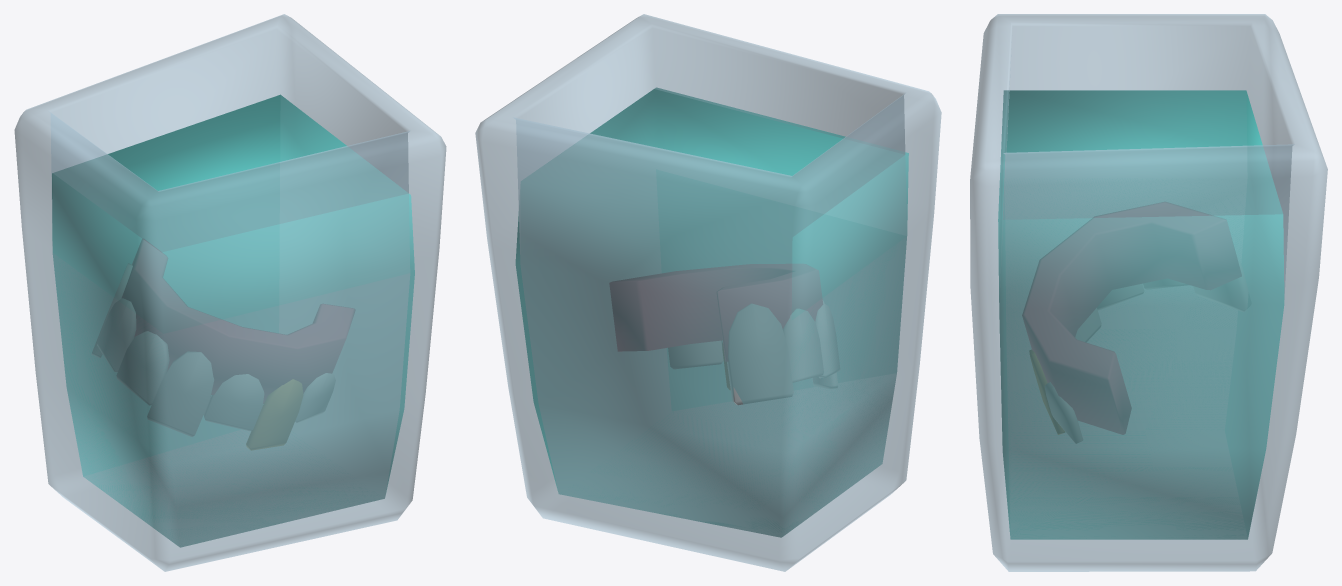
Rendered from props_denture.fbx.
3 renders of one model, left to right at view 1: azimuth 30°, elevation 25°; view 2: azimuth 150°, elevation 25°; view 3: azimuth 270°, elevation 25°, orthographic. The views are drawn at different scales.
Parts seen in each view (by area): view 1: denture; view 2: denture; view 3: denture.
Boxes of the visible parts, x1=… form: denture: x1=14, y1=14, x2=446, y2=571; denture: x1=475, y1=14, x2=941, y2=571; denture: x1=970, y1=14, x2=1327, y2=571.
Size of the model in its own units: 0.6269 by 0.5829 by 0.781.
